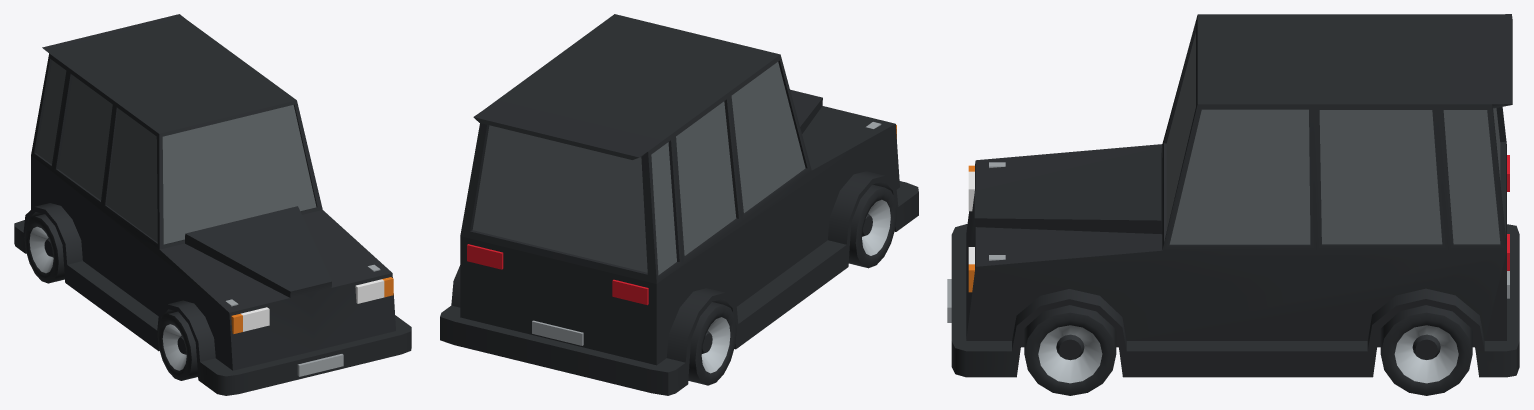
The model's file is Race Royale.fbx_Car3.fbx.
The picture shows the model from 3 angles, left to right: view 1: azimuth 30°, elevation 25°; view 2: azimuth 150°, elevation 25°; view 3: azimuth 270°, elevation 25°; orthographic projection. The views are drawn at different scales.
Visible parts, largest first — view 1: Car3, Car3Wheel4, Car3Wheel2; view 2: Car3, Car3Wheel4, Car3Wheel2; view 3: Car3, Car3Wheel3, Car3Wheel1.
Boxes of the visible parts, x1=… form: Car3: x1=14, y1=14, x2=411, y2=395; Car3Wheel4: x1=24, y1=214, x2=64, y2=283; Car3Wheel2: x1=157, y1=311, x2=197, y2=380; Car3: x1=440, y1=14, x2=918, y2=395; Car3Wheel4: x1=688, y1=302, x2=736, y2=385; Car3Wheel2: x1=848, y1=184, x2=896, y2=268; Car3: x1=947, y1=14, x2=1519, y2=377; Car3Wheel3: x1=1380, y1=305, x2=1472, y2=395; Car3Wheel1: x1=1024, y1=305, x2=1116, y2=395.
Bounding box in the file's own units: 299 × 283 × 542.
